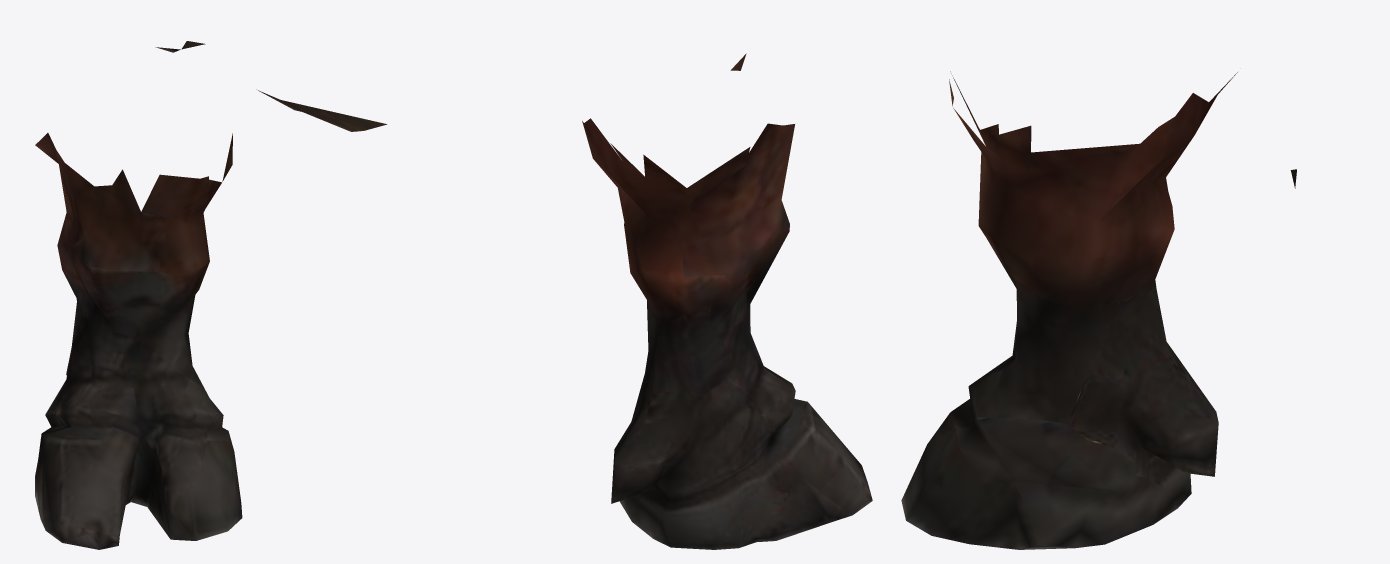
Rendered from gorehorn_leg_fnegx.glb.
3 renders of one model, left to right at view 1: azimuth 30°, elevation 25°; view 2: azimuth 150°, elevation 25°; view 3: azimuth 270°, elevation 25°, orthographic. The views are drawn at different scales.
Visible parts, largest first — view 1: gorehorn_leg_fnegx; view 2: gorehorn_leg_fnegx; view 3: gorehorn_leg_fnegx.
Boxes of the visible parts, bbox=[...] form: gorehorn_leg_fnegx: bbox=[35, 41, 386, 549]; gorehorn_leg_fnegx: bbox=[582, 53, 872, 549]; gorehorn_leg_fnegx: bbox=[901, 71, 1296, 549].
Bounding box in the file's own units: 2.6 × 2.87 × 2.62.
Materials: 1 (1 with a texture image).
